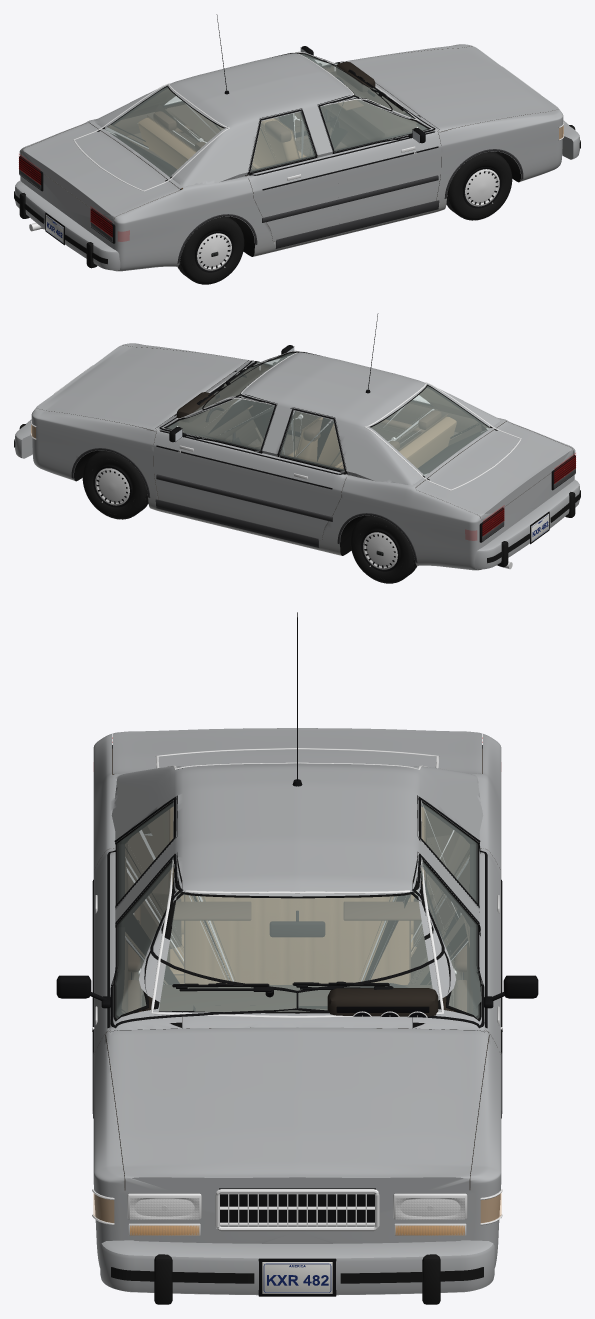
The model's file is sedan87.glb.
3 renders of one model, top to bottom at view 1: azimuth 30°, elevation 25°; view 2: azimuth 150°, elevation 25°; view 3: azimuth 270°, elevation 25°, orthographic. The views are drawn at different scales.
Visible parts, largest first — view 1: Body, Hood, Trunk, Interior, Glass, Door_FR, Door_RR, Wheel_FR_mesh, Wheel_RR_mesh, Glass_FR, Bumper_R, Trim (+7 smaller); view 2: Body, Hood, Trunk, Door_FL, Glass, Interior, Door_RL, Wheel_FL_mesh, Wheel_RL_mesh, Glass_FL, Bumper_R, Trim (+9 smaller); view 3: Body, Hood, Glass, Interior, Bumper_F, Ends, Trunk, Door_FR, Door_FL, Glass_FL, Glass_FR, Trim_FR (+11 smaller).
Boxes of the visible parts, left/top/right/bottom form: Body: left=19, top=44, right=563, bottom=271; Hood: left=345, top=46, right=558, bottom=132; Trunk: left=21, top=122, right=179, bottom=223; Interior: left=138, top=61, right=420, bottom=189; Glass: left=73, top=51, right=418, bottom=191; Door_FR: left=317, top=95, right=441, bottom=224; Door_RR: left=245, top=108, right=338, bottom=241; Wheel_FR_mesh: left=446, top=151, right=512, bottom=220; Wheel_RR_mesh: left=177, top=216, right=244, bottom=284; Glass_FR: left=320, top=95, right=430, bottom=151; Bumper_R: left=14, top=180, right=120, bottom=270; Trim: left=177, top=14, right=523, bottom=263; Body: left=31, top=343, right=575, bottom=570; Hood: left=36, top=345, right=249, bottom=431; Trunk: left=415, top=421, right=573, bottom=522; Door_FL: left=153, top=394, right=277, bottom=523; Glass: left=176, top=350, right=521, bottom=490; Interior: left=174, top=368, right=456, bottom=469; Door_RL: left=256, top=407, right=348, bottom=540; Wheel_FL_mesh: left=82, top=450, right=148, bottom=519; Wheel_RL_mesh: left=350, top=515, right=417, bottom=583; Glass_FL: left=164, top=394, right=274, bottom=449; Bumper_R: left=474, top=479, right=580, bottom=569; Trim: left=71, top=313, right=417, bottom=562; Body: left=93, top=734, right=501, bottom=1267; Hood: left=105, top=1027, right=489, bottom=1190; Glass: left=151, top=748, right=443, bottom=1017; Interior: left=142, top=806, right=452, bottom=1028; Bumper_F: left=100, top=1240, right=494, bottom=1304; Ends: left=92, top=745, right=502, bottom=1296; Trunk: left=112, top=728, right=482, bottom=773; Door_FR: left=93, top=852, right=181, bottom=1054; Door_FL: left=413, top=852, right=501, bottom=1054; Glass_FL: left=410, top=862, right=482, bottom=1020; Glass_FR: left=112, top=862, right=184, bottom=1020; Trim_FR: left=56, top=853, right=297, bottom=1118.
Size of the model in its own units: 4.86 by 2.14 by 2.09.
33 materials, 5 textured.
